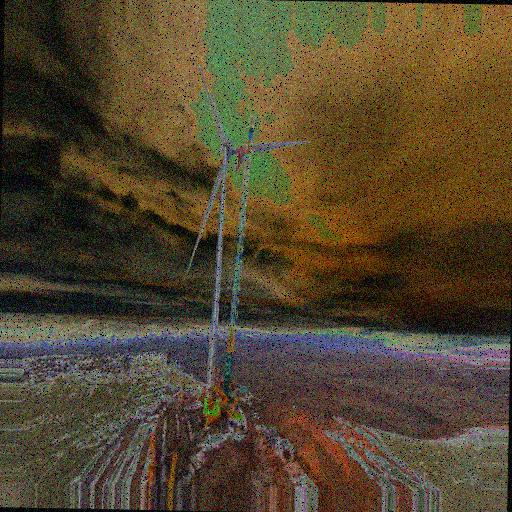wind turbine: (184, 67, 312, 410)
